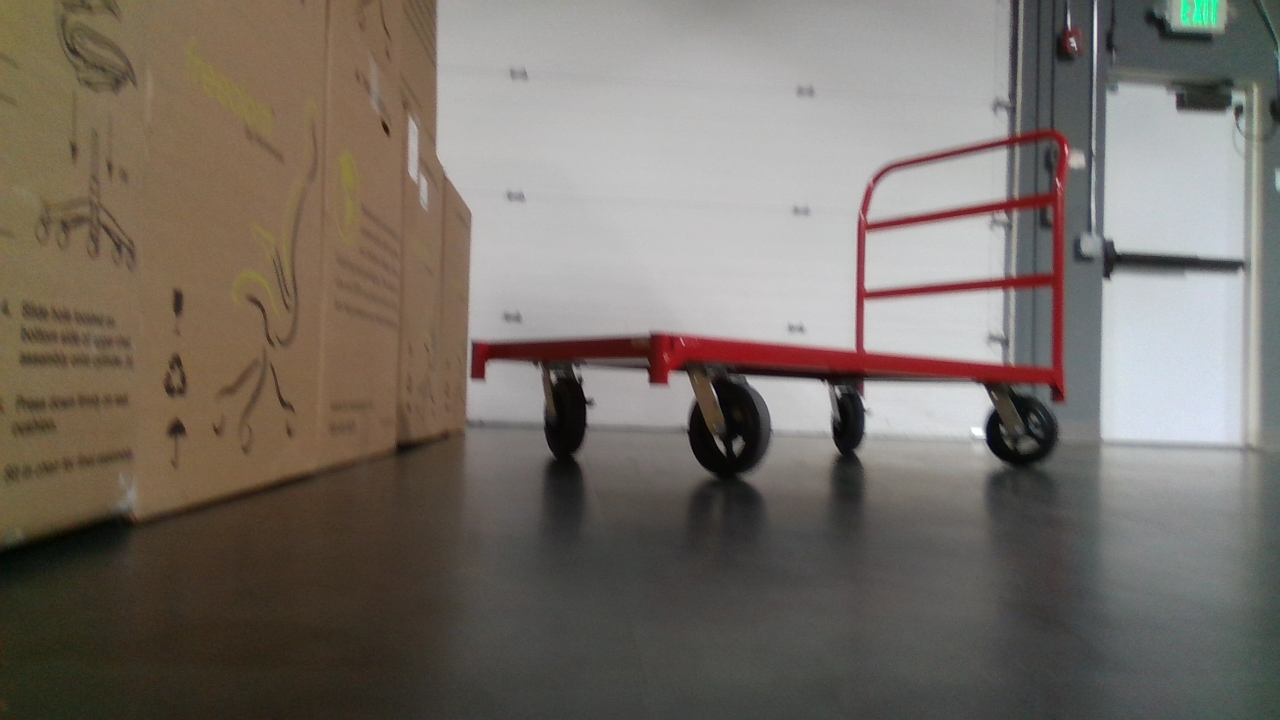Dolly: (473, 128, 1076, 477)
Wheel: (686, 375, 772, 477), (983, 389, 1059, 467), (539, 362, 594, 461), (827, 376, 867, 459)
